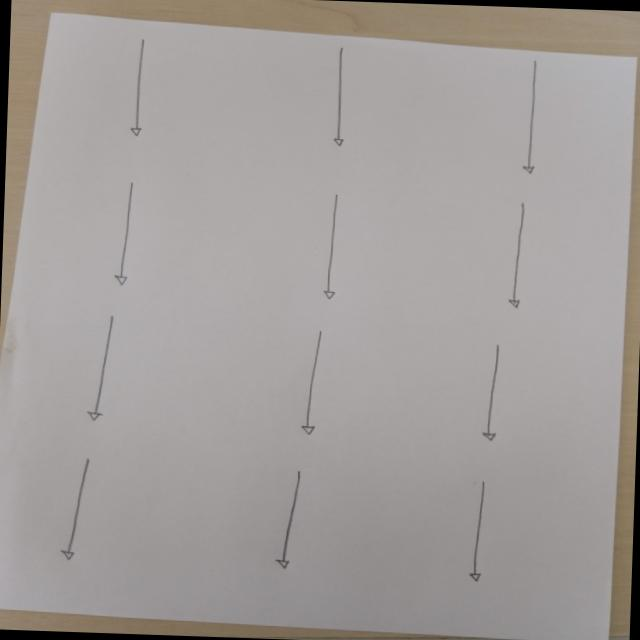arrow_line_down: (311, 191, 357, 303), (498, 200, 540, 317), (102, 182, 148, 284), (84, 313, 122, 433), (54, 448, 93, 562), (514, 62, 552, 178), (272, 466, 312, 573), (320, 45, 358, 147), (465, 481, 500, 588), (120, 40, 156, 142), (472, 344, 508, 441), (300, 332, 328, 436)
